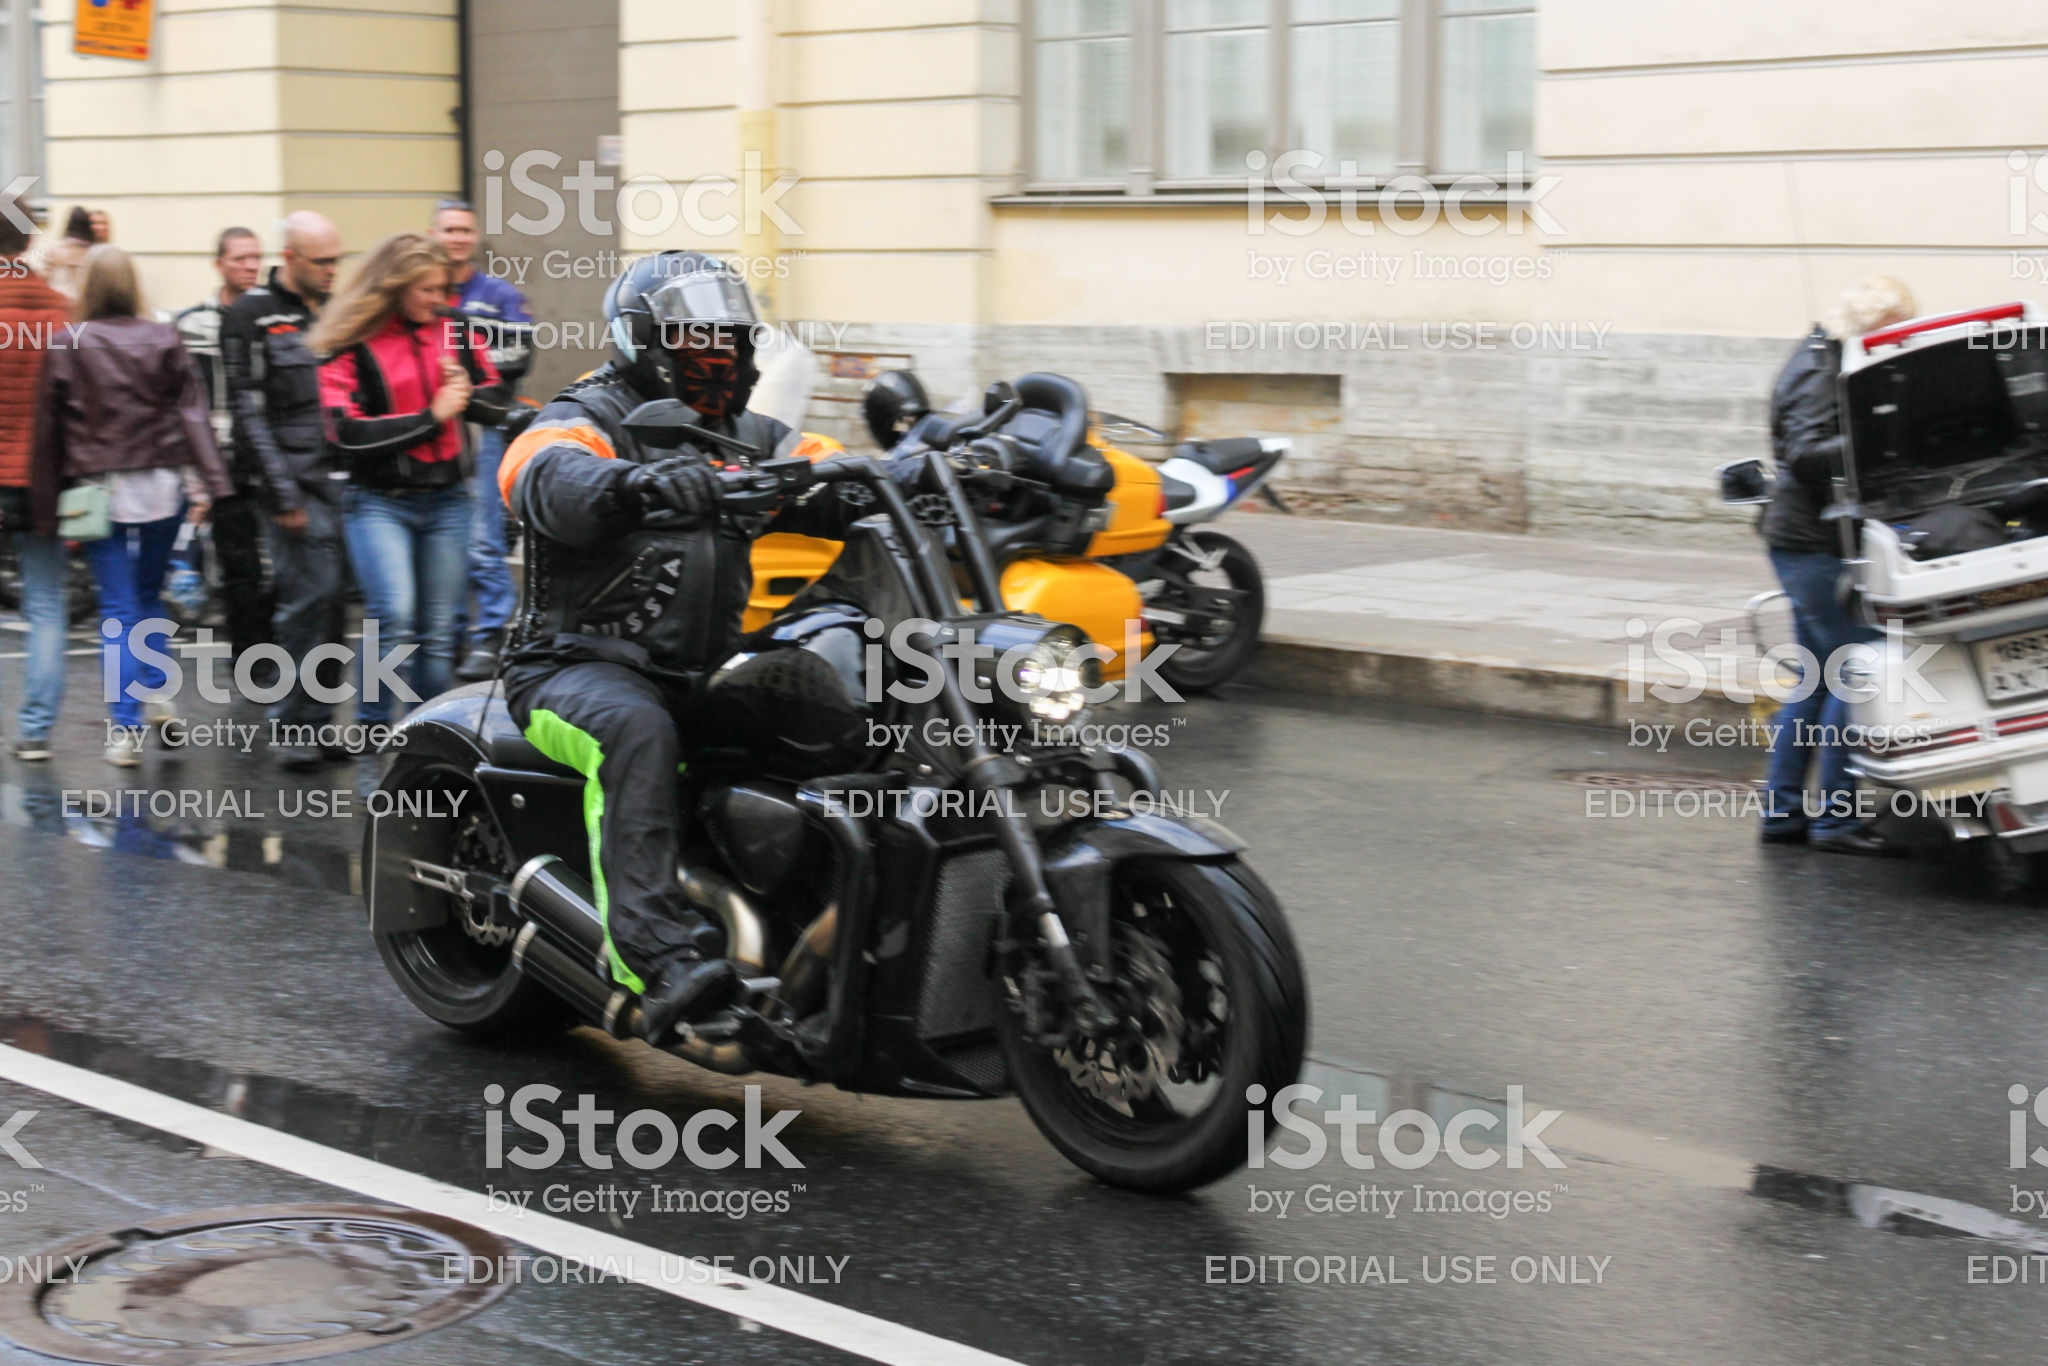helmet: (597, 255, 748, 396)
